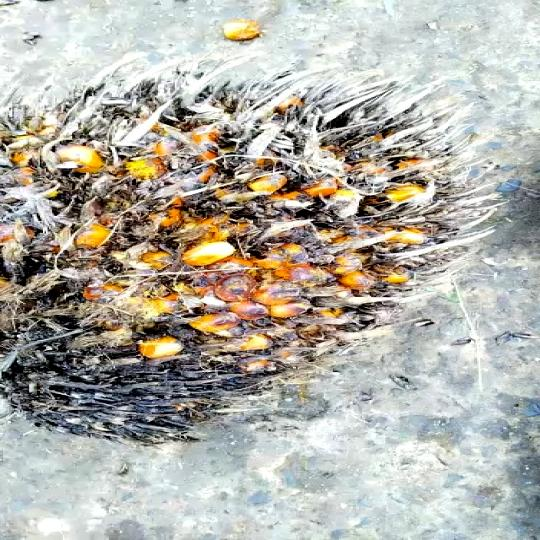terlalu masak: (0, 56, 476, 458)
